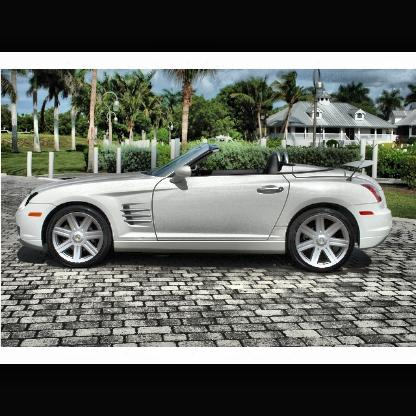Chrysler Crossfire Convertible 2008: (18, 143, 395, 275)
